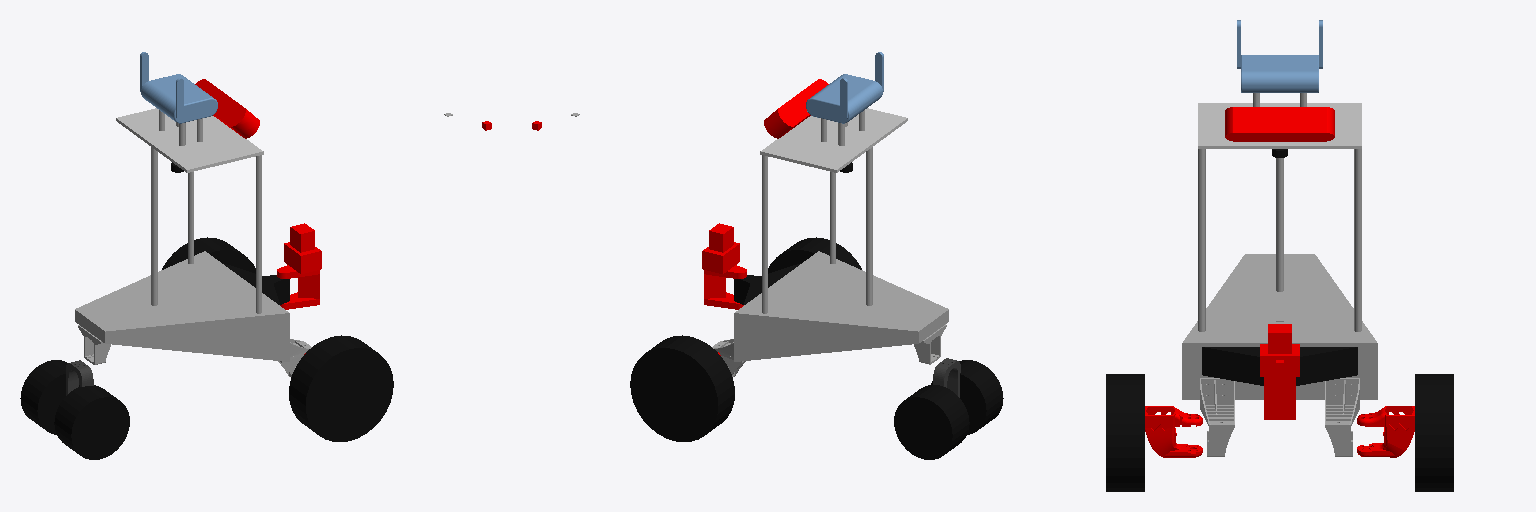
robot.urdf — nano_atrv:
<?xml version="1.0"?>
<robot name="nano_atrv">

    <material name="silver"><color rgba="0.7 0.7 0.7 1.0"/></material>
    <material name="red"><color rgba="1.0 0.0 0.0 1.0"/></material>
    <material name="black"><color rgba="0.1 0.1 0.1 1.0"/></material>
    <material name="light_gray"><color rgba="0.8 0.8 0.8 1.0" /></material>
    <material name="dark_grey"><color rgba="0.3 0.3 0.3 1.0"/></material>
    <material name="lightblue"><color rgba="0.5 0.65 0.8 1.0"/></material>
    <material name="brightyellow"><color rgba="1.0 0.992 0.004 1.0" /></material>

    <link name="base_footprint"/>
    
    <link name="base_link">
        <visual>
            <origin xyz="-0.15 0 -0.075" rpy="0 0 -1.5708" />
            <geometry><mesh filename="package://nano_atrv_description/meshes/vehicle/mainbody.stl" scale="0.001 0.001 0.001"/></geometry>
            <material name="silver"/>
        </visual>
        <visual>
            <origin xyz="-0.045 0.65 -0.125" rpy="1.5708 0 1.5708" />
            <geometry><mesh filename="package://nano_atrv_description/meshes/vehicle/servomount_rear.stl" scale="0.001 0.001 0.001"/></geometry>
            <material name="silver"/>
        </visual>
        <visual>
            <origin xyz="0.945 0.17 -0.22" rpy="-1.5708 0 0" />
            <geometry><mesh filename="package://nano_atrv_description/meshes/vehicle/servomount_front_l.stl" scale="0.001 0.001 0.001"/></geometry>
            <material name="silver"/>
        </visual>
        <visual>
            <origin xyz="0.945 -0.17 -0.22" rpy="1.5708 0 0" />
            <geometry><mesh filename="package://nano_atrv_description/meshes/vehicle/servomount_front_r.stl" scale="0.001 0.001 0.001"/></geometry>
            <material name="silver"/>
        </visual>
        <visual>
            <origin xyz="-0.04 0 0.135" rpy="0 0 0" />
            <geometry><cylinder radius="0.005" length="0.26" /></geometry>
            <material name="silver"/>
        </visual>
        <visual>
            <origin xyz="0.08 0.1 0.135" rpy="0 0 0" />
            <geometry><cylinder radius="0.005" length="0.26" /></geometry>
            <material name="silver"/>
        </visual>
        <visual>
            <origin xyz="0.08 -0.1 0.135" rpy="0 0 0" />
            <geometry><cylinder radius="0.005" length="0.26" /></geometry>
            <material name="silver"/>
        </visual>
        <visual>
            <origin xyz="0.164 0.1 -0.105" rpy="0 0 1.5708" />
            <geometry><mesh filename="package://nano_atrv_description/meshes/SO101_arm/sts3215_03a_v1.stl" /></geometry>
            <material name="black"/>
        </visual>
        <visual>
            <origin xyz="0.164 -0.1 -0.105" rpy="0 0 -1.5708" />
            <geometry><mesh filename="package://nano_atrv_description/meshes/SO101_arm/sts3215_03a_v1.stl" /></geometry>
            <material name="black"/>
        </visual>
        <visual>
            <origin xyz="-0.16 -0.003 -0.043" rpy="0 0 3.14159265" />
            <geometry><mesh filename="package://nano_atrv_description/meshes/SO101_arm/sts3215_03a_v1.stl" /></geometry>
            <material name="black"/>
        </visual>
        <visual>
            <origin xyz="0.02 0 0.265" rpy="0 0 0" />
            <geometry><box size="0.13 0.21 0.005" /></geometry>
            <material name="light_gray"/>
        </visual>
        <visual>
            <origin xyz="-0.01 0.03 0.295" rpy="0 0 0" />
            <geometry><cylinder radius="0.005" length="0.05" /></geometry>
            <material name="silver"/>
        </visual>
        <visual>
            <origin xyz="-0.01 -0.03 0.295" rpy="0 0 0" />
            <geometry><cylinder radius="0.005" length="0.05" /></geometry>
            <material name="silver"/>
        </visual>
        <visual>
            <origin xyz="0.02 0.03 0.295" rpy="0 0 0" />
            <geometry><cylinder radius="0.005" length="0.05" /></geometry>
            <material name="silver"/>
        </visual>
        <visual>
            <origin xyz="0.02 -0.03 0.295" rpy="0 0 0" />
            <geometry><cylinder radius="0.005" length="0.05" /></geometry>
            <material name="silver"/>
        </visual>
        <visual>
            <origin xyz="0.04 -0.05 0.315" rpy="0 0 1.5708" />
            <geometry><mesh filename="package://nano_atrv_description/meshes/vehicle/router.stl" scale="0.001 0.001 0.001" /></geometry>
            <material name="lightblue"/>
        </visual>

        <visual>
            <origin xyz="0.0 0 0.22" rpy="0 0 0" />
            <geometry><cylinder radius="0.01" length="0.01" /></geometry>
            <material name="black"/>
        </visual>
    </link>

    <joint name="base_footprint_to_base_link" type="fixed">
        <parent link="base_footprint"/>
        <child link="base_link"/>
        <origin xyz="0 0 0.18" rpy="0 0 0"/>
    </joint>

    <link name="laser"/>
    <joint name="base_link_to_laser" type="fixed">
        <parent link="base_link"/>
        <child link="laser"/>
        <origin xyz="0 0 0.22" rpy="0 3.1415 0"/>
    </joint>

    <link name="camera_link">
        <visual>
            <origin xyz="-0.025 -0.11 -0.01" rpy="1.5708 0 1.5708" />
            <geometry><mesh filename="package://nano_atrv_description/meshes/vehicle/camera.stl" scale="0.001 0.001 0.001" /></geometry>
            <material name="red"/>
        </visual>
    </link>
    <joint name="base_link_to_camera_link" type="fixed">
        <parent link="base_link"/>
        <child link="camera_link"/>
        <origin xyz="0.08 0.05 0.285" rpy="0 0.8029 0"/>
    </joint>

    <link name="camera_color_optical_frame"/>
    <joint name="camera_to_color_optical_joint" type="fixed">
        <parent link="camera_link"/>
        <child link="camera_color_optical_frame"/>
        <origin xyz="0 0 0" rpy="-1.5708 0 -1.5708"/>
    </joint>

    <link name="camera_depth_optical_frame"/>
    <joint name="camera_to_depth_optical_joint" type="fixed">
        <parent link="camera_link"/>
        <child link="camera_depth_optical_frame"/>
        <origin xyz="0 0 0" rpy="-1.5708 0 -1.5708"/>
    </joint>

    <link name="left_wheel_link">
        <visual>
            <origin xyz="-0.38 0.065 -0.025" rpy="0 3.14159265359 0" />
            <geometry><mesh filename="package://nano_atrv_description/meshes/vehicle/wheel_front_mount.stl" scale="0.001 0.001 0.001"/></geometry>
            <material name="red"/>
        </visual>
        <visual>
            <origin xyz="0.00 0.04 0.085" rpy="1.5708 1.5708 0" />
            <geometry><mesh filename="package://nano_atrv_description/meshes/SO101_arm/sts3215_03a_v1.stl" /></geometry>
            <material name="black"/>
        </visual>
    </link>
    <joint name="left_steer_joint" type="revolute">
        <parent link="base_link"/>
        <child link="left_wheel_link"/>
        <origin xyz="0.164 0.1125 -0.175" rpy="0 0 0"/> <axis xyz="0 0 1"/>
        <limit lower="-1.57" upper="1.57" effort="10" velocity="2"/>
    </joint>

    <link name="right_wheel_link">
        <visual>
            <origin xyz="0.38 -0.065 -0.025" rpy="0 3.14159265359 3.14159265359" />
            <geometry><mesh filename="package://nano_atrv_description/meshes/vehicle/wheel_front_mount.stl" scale="0.001 0.001 0.001"/></geometry>
            <material name="red"/>
        </visual>
        <visual>
            <origin xyz="-0.0 -0.04 0.085" rpy="1.5708 1.5708 0" />
            <geometry><mesh filename="package://nano_atrv_description/meshes/SO101_arm/sts3215_03a_v1.stl" /></geometry>
            <material name="black"/>
        </visual> 
    </link>
    <joint name="right_steer_joint" type="revolute">
        <parent link="base_link"/>
        <child link="right_wheel_link"/>
        <origin xyz="0.164 -0.1125 -0.175" rpy="0 0 0"/> <axis xyz="0 0 1"/>
        <limit lower="-1.57" upper="1.57" effort="10" velocity="2"/>
    </joint>

    <link name="rear_wheel_link">
        <visual>
            <origin xyz="0.0 0.2 0.78" rpy="0 -1.5708 0" />
            <geometry><mesh filename="package://nano_atrv_description/meshes/vehicle/wheel_rear_yoke.stl" scale="0.001 0.001 0.001"/></geometry>
            <material name="dark_grey"/>
        </visual>
    </link>
    <joint name="rear_steer_joint" type="revolute">
        <parent link="base_link"/>
        <child link="rear_wheel_link"/>
        <origin xyz="-0.175 0 -0.175" rpy="0 0 0"/>
        <axis xyz="0 0 1"/>
        <limit lower="-3.1415" upper="3.1415" effort="10" velocity="2"/>
    </joint>

    <link name="left_wheel">
        <visual>
            <origin xyz="0 0 0" rpy="0 1.5708 0" />
            <geometry><cylinder radius="0.075" length="0.05" /></geometry>
            <material name="black"/>
        </visual>
    </link>
    <joint name="left_wheel_joint" type="continuous">
        <parent link="left_wheel_link"/>
        <child link="left_wheel"/>
        <origin xyz="0 0.085 0.075" rpy="0 0 1.5708"/> <axis xyz="-1 0 0"/>
    </joint>

    <link name="right_wheel">
        <visual>
            <origin xyz="0 0 0" rpy="0 1.5708 0" />
            <geometry><cylinder radius="0.075" length="0.05" /></geometry>
            <material name="black"/>
        </visual>
    </link>
    <joint name="right_wheel_joint" type="continuous">
        <parent link="right_wheel_link"/>
        <child link="right_wheel"/>
        <origin xyz="0 -0.085 0.075" rpy="0 0 -1.5708"/> <axis xyz="1 0 0"/>
    </joint>

    <link name="rear_wheel">
        <visual>
            <origin xyz="-0.05 0 0" rpy="0 1.5708 0" />
            <geometry><cylinder radius="0.05" length="0.05" /></geometry>
            <material name="black"/>
        </visual>
        <visual>
            <origin xyz="0.05 0 0.0" rpy="0 1.5708 0" />
            <geometry><cylinder radius="0.05" length="0.05" /></geometry>
            <material name="black"/>
        </visual>
    </link>
    <joint name="rear_wheel_joint" type="continuous">
        <parent link="rear_wheel_link"/>
        <child link="rear_wheel"/>
        <origin xyz="0 0 0.04" rpy="0 0 1.5708"/>
        <axis xyz="-1 0 0"/>
    </joint>

    <link name="arm_base">
        <inertial>
            <origin xyz="-2.45960666746703E-07 0.0311418169687909 0.0175746661003382" rpy="0 0 0" />
            <mass value="0.193184127927598" />
            <inertia ixx="0.000137" ixy="0.0" ixz="0.0" iyy="0.000169" iyz="0.0" izz="0.000145" />
        </inertial>
        <visual>
            <origin xyz="0 0.026 0.035" rpy="0 0 3.14159265359" />
            <geometry><mesh filename="package://nano_atrv_description/meshes/vehicle/front_arm_mount.stl" scale="0.001 0.001 0.001" /></geometry>
            <material name="black"/>
        </visual>
        <collision>
            <origin xyz="0 0 0.02" rpy="0 0 0" />
            <geometry><cylinder radius="0.05" length="0.04" /></geometry>
        </collision>
    </link>
    <joint name="base_link_to_arm" type="fixed">
        <parent link="base_link"/>
        <child link="arm_base"/>
        <origin xyz="0.145 0 -0.075" rpy="0 0 1.5708"/>
    </joint>

    <link name="arm_shoulder_rotation_pitch">
        <inertial>
            <origin xyz="-9.07886224712597E-05 0.0590971820568318 0.031089016892169" rpy="0 0 0" />
            <mass value="0.119226314127197" />
            <inertia ixx="5.9E-05" ixy="0.0" ixz="0.0" iyy="3.2E-05" iyz="0.0" izz="5.8E-05" />
        </inertial>
       <visual>
            <origin xyz="0 0.008 0.045" rpy="-1.5708 0 0" />
            <geometry><mesh filename="package://nano_atrv_description/meshes/vehicle/arm_front_pivot.stl" scale="0.001 0.001 0.001" /></geometry>
            <material name="red"/>
        </visual>
        
        <collision>
            <origin xyz="0 0.05 0" rpy="1.5708 0 0" />
            <geometry><cylinder radius="0.03" length="0.1" /></geometry>
        </collision>
    </link>
    <joint name="arm_shoulder_rotation" type="revolute">
        <origin xyz="0 -0.04 0.0165" rpy="1.5708 0 0" />
        <parent link="arm_base" />
        <child link="arm_shoulder_rotation_pitch" />
        <axis xyz="0 -1 0" />
        <limit effort="1000" lower="-1.96" upper="1.96" velocity="5.0"/>
        <dynamics damping="0.1"/>
    </joint>

    <link name="arm_upper_arm">
        <inertial>
            <origin xyz="-1.7205170190925E-05 0.0801802156327694 0.00310545118155671" rpy="0 0 0" />
            <mass value="0.162409284599177" />
            <inertia ixx="0.000167" ixy="0.0" ixz="0.0" iyy="7.0E-05" iyz="0.0" izz="0.000213" />
        </inertial>
        <visual>
            <origin xyz="0 0.069 -0.013" rpy="1.5708 0 -1.5708" />
            <geometry><mesh filename="package://nano_atrv_description/meshes/SO101_arm/upper_arm_so101_v1.stl" /></geometry>
            <material name="brightyellow"/>
        </visual>
        <visual>
        <origin xyz="0 0.115 0.015" rpy="0 -1.5708 0" />
            <geometry><mesh filename="package://nano_atrv_description/meshes/SO101_arm/sts3215_03a_v1.stl" /></geometry>
            <material name="black"/>
        </visual>
        <collision>
            <origin xyz="0 0.05 0" rpy="1.5708 0 0" />
            <geometry><cylinder radius="0.025" length="0.11" /></geometry>
        </collision>
    </link>
    <joint name="arm_shoulder_pitch" type="revolute">
        <origin xyz="0 0.105 0.028" rpy="0 0 0" />
        <parent link="arm_shoulder_rotation_pitch" />
        <child link="arm_upper_arm" />
        <axis xyz="1 0 0" />
        <limit effort="1000" lower="-1.745" upper="1.745" velocity="5.0"/>
        <dynamics damping="0.1"/>
    </joint>

    <link name="arm_lower_arm">
        <inertial>
            <origin xyz="-0.00339603710186651 0.00137796353960074 0.0768006751156044" rpy="0 0 0" />
            <mass value="0.147967774582291" />
            <inertia ixx="0.000105" ixy="0.0" ixz="0.0" iyy="0.000138" iyz="0.0" izz="5.0E-05" />
        </inertial>
        <visual>
            <origin xyz="0 0.034 0.065" rpy="0 1.5708 0" />
            <geometry><mesh filename="package://nano_atrv_description/meshes/SO101_arm/under_arm_so101_v1.stl" /></geometry>
            <material name="brightyellow"/>
        </visual>
        <visual>
            <origin xyz="0 0 0.12" rpy="0 -1.5708 0" />
            <geometry><mesh filename="package://nano_atrv_description/meshes/SO101_arm/sts3215_03a_v1.stl" /></geometry>
            <material name="black"/>
        </visual>
        <collision>
            <origin xyz="0 0 0.06" rpy="0 0 0" />
            <geometry><cylinder radius="0.02" length="0.13" /></geometry>
        </collision>
    </link>
    <joint name="arm_elbow" type="revolute">
        <origin xyz="0 0.11257 0.028" rpy="0 0 0" />
        <parent link="arm_upper_arm" />
        <child link="arm_lower_arm" />
        <axis xyz="1 0 0" />
        <limit effort="1000" lower="-1.5" upper="1.5" velocity="5.0"/>
        <dynamics damping="0.1"/>
    </joint>

    <link name="arm_wrist_pitch_roll">
        <inertial>
            <origin xyz="-0.00852653127372418 -0.0352278997897927 -2.34622481569413E-05" rpy="0 0 0" />
            <mass value="0.066132067097723" />
            <inertia ixx="1.9E-05" ixy="0.0" ixz="0.0" iyy="2.3E-05" iyz="0.0" izz="3.4E-05" />
        </inertial>
        <visual>
            <origin xyz="0 -0.025 0" rpy="1.5708 0 3.14159265359" />
            <geometry><mesh filename="package://nano_atrv_description/meshes/SO101_arm/wrist_roll_pitch_so101_v2.stl" /></geometry>
            <material name="brightyellow"/>
        </visual>
        <visual>
            <origin xyz="-0.015 -0.04 0" rpy="-1.5708 0 0" />
            <geometry><mesh filename="package://nano_atrv_description/meshes/SO101_arm/sts3215_03a_v1.stl" /></geometry>
            <material name="black"/>
        </visual>
        <collision>
            <origin xyz="0 -0.03 0" rpy="1.5708 0 0" />
            <geometry><cylinder radius="0.02" length="0.06" /></geometry>
        </collision>
    </link>
    <joint name="arm_wrist_pitch" type="revolute">
        <origin xyz="0 0.0052 0.1349" rpy="-1.57079 0 0" />
        <parent link="arm_lower_arm" />
        <child link="arm_wrist_pitch_roll" />
        <axis xyz="1 0 0" />
        <limit effort="1000" lower="-1.658" upper="1.658" velocity="5.0"/>
        <dynamics damping="0.1"/>
    </joint>

    <link name="arm_fixed_gripper">
        <inertial>
            <origin xyz="0.00552376906426563 -0.0280167153359021 0.000483582592841092" rpy="0 0 0" />
            <mass value="0.0929859131176897" />
            <inertia ixx="4.3E-05" ixy="0.0" ixz="0.0" iyy="3.0E-05" iyz="0.0" izz="5.0E-05" />
        </inertial>
        <visual>
            <origin xyz="0 0 0" rpy="-1.5708 0 3.14159265359" />
            <geometry><mesh filename="package://nano_atrv_description/meshes/SO101_arm/wrist_roll_follower_so101_v1.stl" /></geometry>
            <material name="brightyellow"/>
        </visual>
        <visual>
        <origin xyz="-0.01 -0.025 0" rpy="0 3.141592 0" />
            <geometry><mesh filename="package://nano_atrv_description/meshes/SO101_arm/sts3215_03a_v1.stl" /></geometry>
            <material name="black"/>
        </visual>
        <collision>
            <origin xyz="0 0 0" rpy="-1.5708 0 3.14159265359" />
            <geometry><mesh filename="package://nano_atrv_description/meshes/SO101_arm/wrist_roll_follower_so101_v1.stl" /></geometry>
        </collision>
    </link>
    <joint name="arm_wrist_roll" type="revolute">
        <origin xyz="0 -0.0601 0" rpy="0 1.57079 0" />
        <parent link="arm_wrist_pitch_roll" />
        <child link="arm_fixed_gripper" />
        <axis xyz="0 1 0" />
        <limit effort="1000" lower="-2.75" upper="2.75" velocity="5.0"/>
        <dynamics damping="0.1"/>
    </joint>

    <link name="arm_moving_jaw">
        <inertial>
            <origin xyz="-0.00161744605468241 -0.0303472584046471 0.000449645961853651" rpy="0 0 0" />
            <mass value="0.0202443794940372" />
            <inertia ixx="1.1E-05" ixy="0.0" ixz="0.0" iyy="3.0E-06" iyz="0.0" izz="8.9E-06" />
        </inertial>
        <visual>
            <origin xyz="0 0 0" rpy="0 0 0" />
            <geometry><mesh filename="package://nano_atrv_description/meshes/SO101_arm/moving_jaw_so101_v1.stl" /></geometry>
            <material name="red"/>
        </visual>
        <collision>
            <origin xyz="0 0 0" rpy="0 0 0" />
            <geometry><mesh filename="package://nano_atrv_description/meshes/SO101_arm/moving_jaw_so101_v1.stl" /></geometry>
        </collision>
    </link>
    <joint name="arm_gripper" type="revolute">
        <origin xyz="-0.0202 -0.0244 0" rpy="3.1416 0 3.1416" />
        <parent link="arm_fixed_gripper" />
        <child link="arm_moving_jaw" />
        <axis xyz="0 0 1" />
        <limit effort="1000" lower="-0.1792" upper="1.5708" velocity="5.0"/>
        <dynamics damping="0.1"/>
    </joint>

    <link name="arm_end_effector">
        <visual>
            <origin xyz="0 0 0" rpy="0 0 0"/>
            <geometry><box size="0.01 0.01 0.01" /></geometry>
            <material name="red"/>
        </visual>
    </link>
    <joint name="arm_end_effector_joint" type="fixed">
        <parent link="arm_fixed_gripper"/>
        <child link="arm_end_effector"/>
        <origin xyz="0.0 -0.09 0.0" rpy="0 0 0"/>
    </joint>

    <link name="apriltag_frame">
        <visual>
            <origin xyz="-0.043 0.005 0" rpy="0 1.5708 0"/>
            <geometry><box size="0.01 0.01 0.001" /></geometry>
            <material name="silver"/>
        </visual>
    </link>
    
    <joint name="gripper_to_apriltag_joint" type="fixed">
        <parent link="arm_fixed_gripper"/>
        <child link="apriltag_frame"/>
        <origin xyz="0.01 -0.03 0.0" rpy="0.0 0.0 0.0"/>
    </joint>
</robot>

--- What the picture shows (computed from the rendered views, not written in the file) ---
The picture shows the robot from 3 angles, left to right: view 1: azimuth 30°, elevation 25°; view 2: azimuth 150°, elevation 25°; view 3: azimuth 270°, elevation 25°; orthographic projection.
Model nano_atrv with 21 links and 20 joints (9 revolute, 3 continuous, 8 fixed), rooted at base_footprint, posed every joint at zero.
Links seen in each view (by area): view 1: base_link, right_wheel, rear_wheel, arm_shoulder_rotation_pitch, camera_link, left_wheel, arm_base, rear_wheel_link; view 2: base_link, left_wheel, rear_wheel, arm_shoulder_rotation_pitch, camera_link, right_wheel, arm_base, rear_wheel_link; view 3: base_link, left_wheel, right_wheel, arm_base, camera_link, arm_shoulder_rotation_pitch, left_wheel_link, right_wheel_link.
Boxes of the visible links, bbox=[...] form: base_link: bbox=[75, 52, 311, 376]; right_wheel: bbox=[289, 335, 393, 441]; rear_wheel: bbox=[20, 360, 129, 459]; arm_shoulder_rotation_pitch: bbox=[277, 223, 321, 309]; camera_link: bbox=[195, 79, 259, 138]; left_wheel: bbox=[162, 237, 255, 273]; arm_base: bbox=[222, 263, 289, 304]; rear_wheel_link: bbox=[66, 360, 93, 395]; base_link: bbox=[712, 52, 948, 376]; left_wheel: bbox=[630, 335, 734, 441]; rear_wheel: bbox=[894, 360, 1003, 459]; arm_shoulder_rotation_pitch: bbox=[702, 223, 746, 309]; camera_link: bbox=[764, 79, 828, 138]; right_wheel: bbox=[768, 237, 861, 273]; arm_base: bbox=[734, 263, 801, 304]; rear_wheel_link: bbox=[933, 358, 960, 397]; base_link: bbox=[1182, 20, 1377, 456]; left_wheel: bbox=[1415, 374, 1453, 491]; right_wheel: bbox=[1106, 374, 1144, 491]; arm_base: bbox=[1202, 347, 1357, 385]; camera_link: bbox=[1225, 107, 1334, 141]; arm_shoulder_rotation_pitch: bbox=[1260, 324, 1299, 419]; left_wheel_link: bbox=[1357, 406, 1414, 457]; right_wheel_link: bbox=[1145, 406, 1202, 457].
Bounding box of the posed robot: 0.756 × 0.445 × 0.576 m (x, y, z).
Meshes: 16 distinct files referenced, 11 mesh visuals loaded (10 binary STL); not drawn: 14 (reference not matched to a file when rendering).
